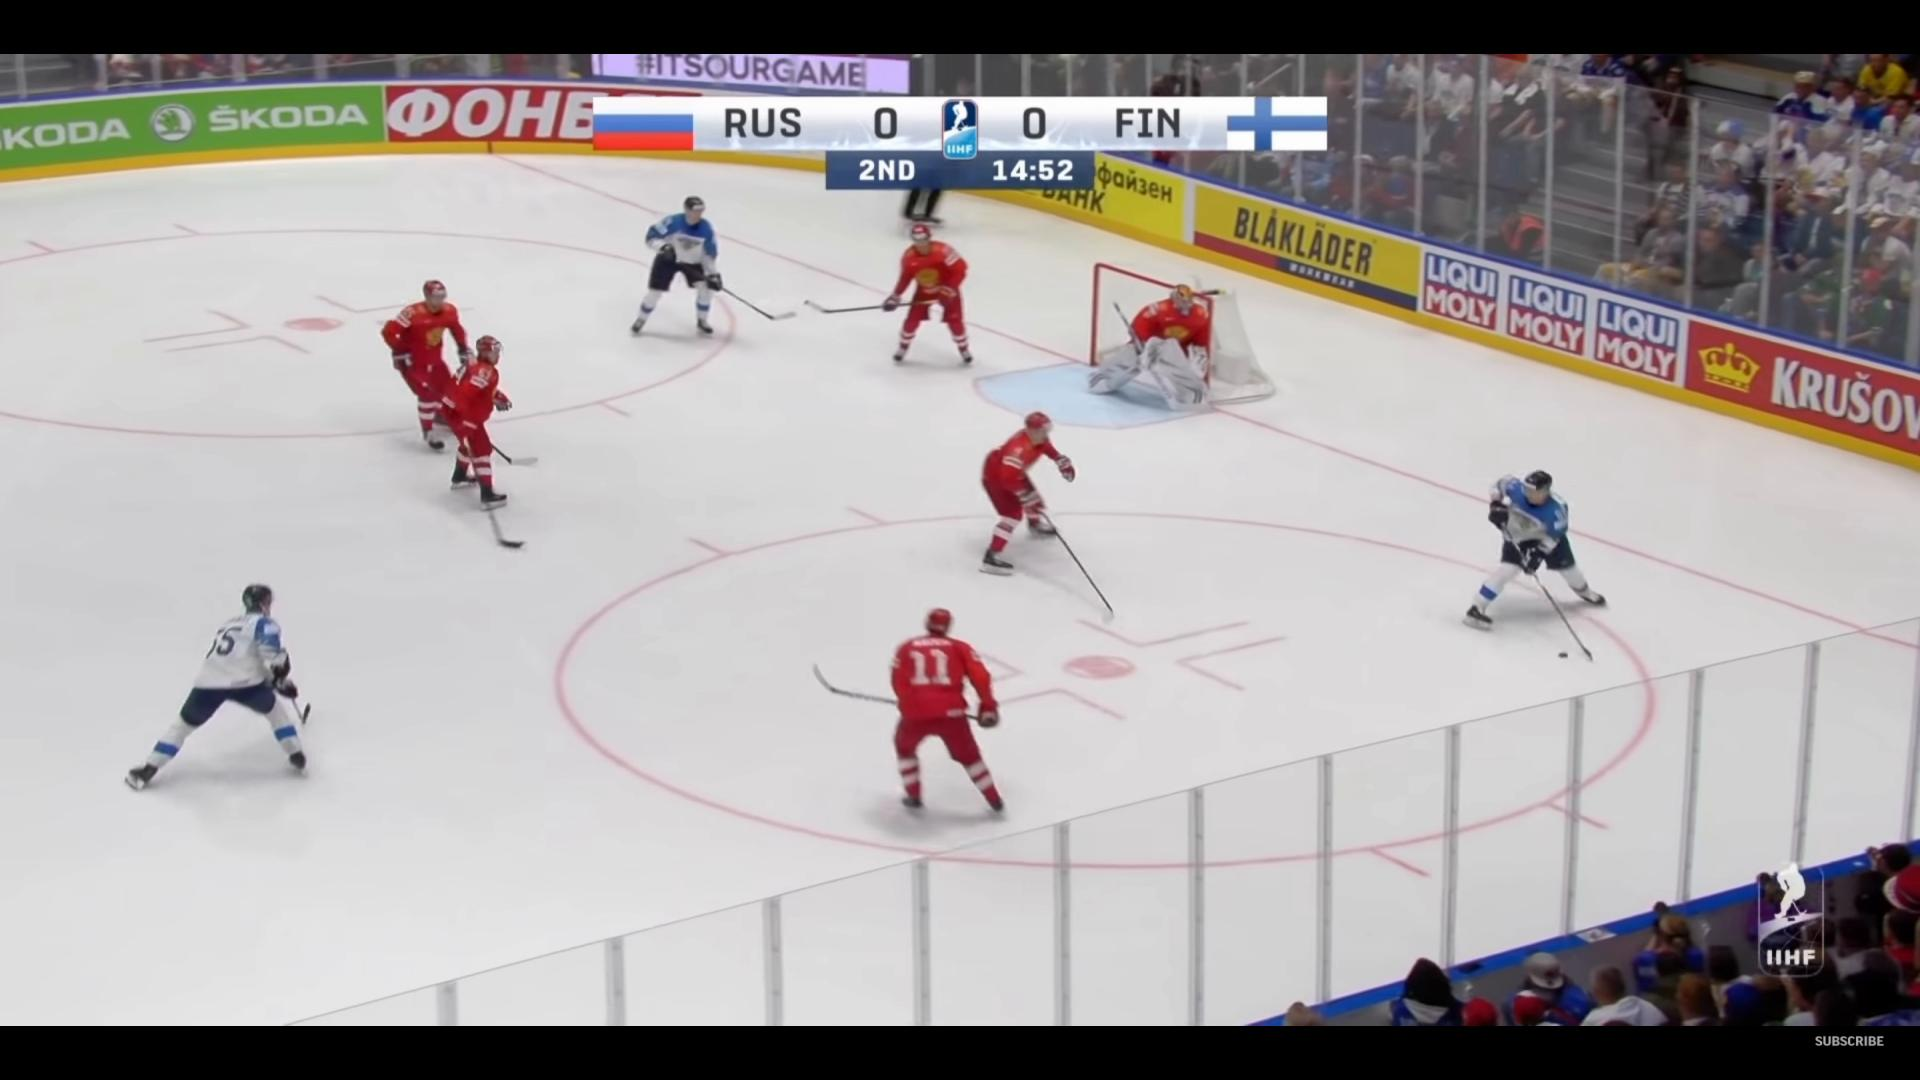puck: (1556, 651, 1568, 658)
